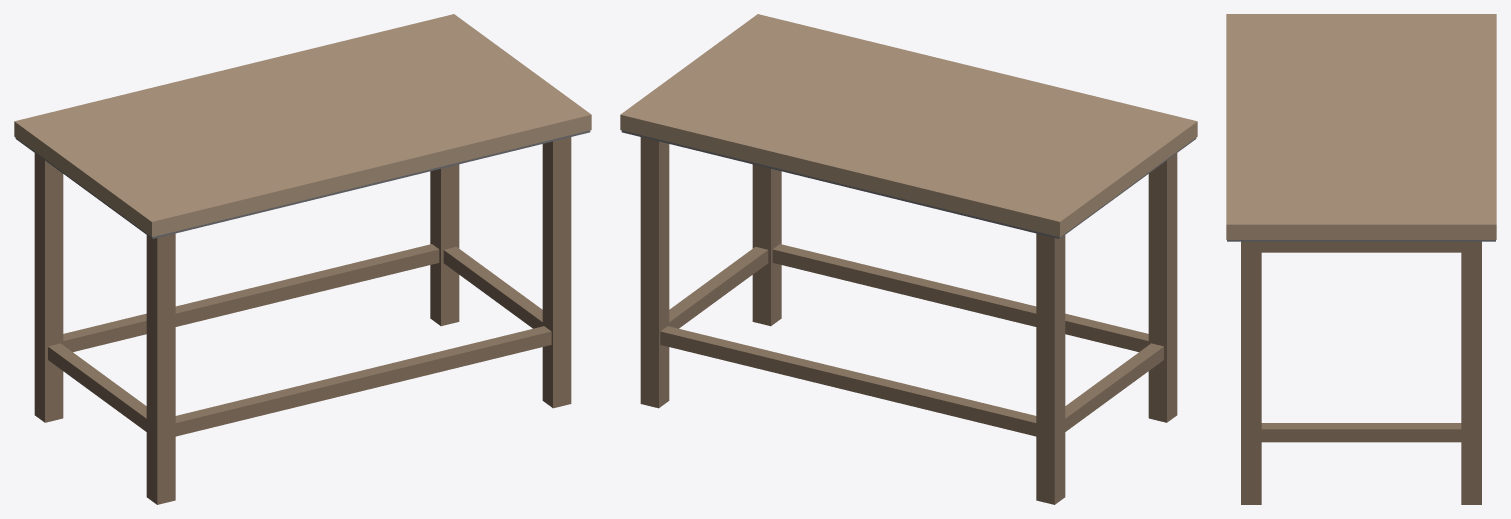
Rendered from table.glb.
3 renders of one model, left to right at view 1: azimuth 30°, elevation 25°; view 2: azimuth 150°, elevation 25°; view 3: azimuth 270°, elevation 25°, orthographic.
Visible parts, largest first — view 1: Table_Top, Table_StretcherLong_B, Table_Leg_2, Table_Leg_3, Table_Leg_0, Table_StretcherLong_F, Table_Leg_1, Table_StretcherCross_L, Table_StretcherCross_R, Table_TrimEdge; view 2: Table_Top, Table_StretcherLong_F, Table_Leg_0, Table_Leg_1, Table_Leg_2, Table_StretcherLong_B, Table_Leg_3, Table_StretcherCross_L, Table_StretcherCross_R, Table_TrimEdge; view 3: Table_Top, Table_Leg_1, Table_Leg_3, Table_StretcherCross_R, Table_StretcherCross_L, Table_TrimEdge.
Boxes of the visible parts, box(x1,y1,x2,y2) form: Table_Top: box(14, 14, 591, 237); Table_StretcherLong_B: box(175, 326, 551, 436); Table_Leg_2: box(146, 233, 175, 504); Table_Leg_3: box(542, 137, 571, 408); Table_Leg_0: box(34, 153, 63, 422); Table_StretcherLong_F: box(63, 244, 439, 351); Table_Leg_1: box(430, 164, 459, 326); Table_StretcherCross_L: box(48, 343, 146, 431); Table_StretcherCross_R: box(443, 247, 542, 328); Table_TrimEdge: box(15, 130, 590, 238); Table_Top: box(620, 14, 1197, 237); Table_StretcherLong_F: box(660, 326, 1036, 436); Table_Leg_0: box(1036, 233, 1065, 504); Table_Leg_1: box(640, 137, 669, 408); Table_Leg_2: box(1148, 153, 1177, 422); Table_StretcherLong_B: box(772, 244, 1148, 351); Table_Leg_3: box(752, 164, 781, 326); Table_StretcherCross_L: box(1065, 343, 1163, 431); Table_StretcherCross_R: box(669, 247, 768, 328); Table_TrimEdge: box(621, 130, 1196, 238); Table_Top: box(1226, 14, 1496, 239); Table_Leg_1: box(1461, 241, 1481, 504); Table_Leg_3: box(1241, 241, 1261, 504); Table_StretcherCross_R: box(1261, 423, 1461, 442); Table_StretcherCross_L: box(1261, 241, 1461, 252); Table_TrimEdge: box(1227, 240, 1495, 241).
Size of the model in its own units: 1.2 by 0.76 by 0.65.
